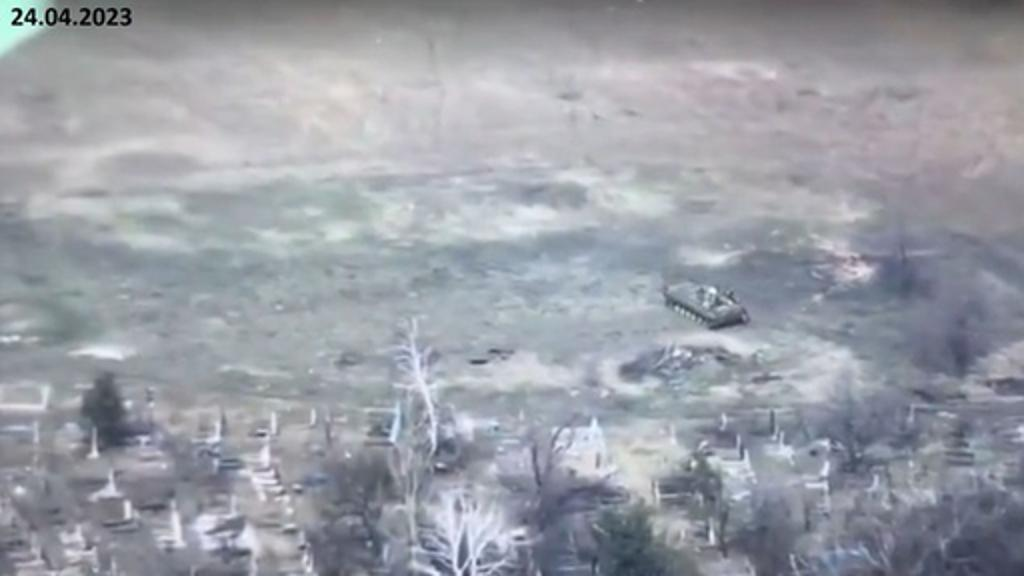APC-IFV: (654, 270, 746, 330)
